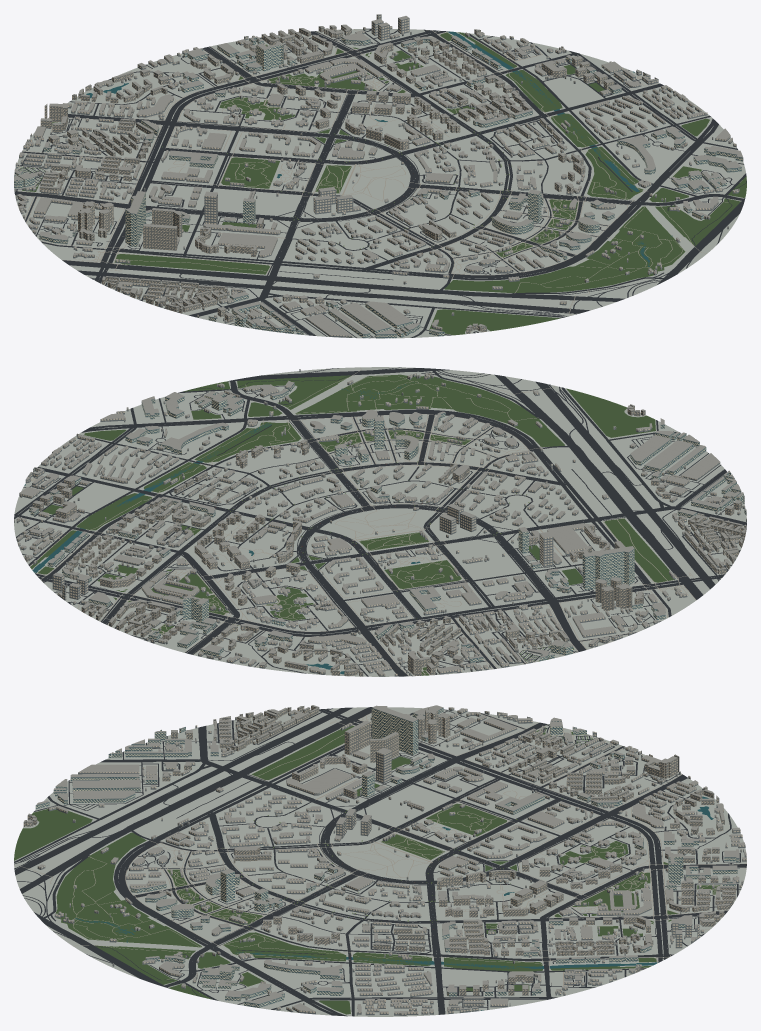
Rendered from district.glb.
3 views of the same model, one above another, from view 1: azimuth 30°, elevation 25°; view 2: azimuth 150°, elevation 25°; view 3: azimuth 270°, elevation 25° (orthographic).
Parts seen in each view (by area): view 1: CONTEXT_ground, CONTEXT_91_91, CONTEXT_90_90, CONTEXT_-2_1, CONTEXT_1_1, CONTEXT_-3_0, CONTEXT_0_2, CONTEXT_-1_2, CONTEXT_0_1, CONTEXT_0_-2, CONTEXT_2_0, CONTEXT_-3_-2 (+20 smaller); view 2: CONTEXT_ground, CONTEXT_91_91, CONTEXT_90_90, CONTEXT_-3_0, CONTEXT_-2_1, CONTEXT_0_2, CONTEXT_1_1, CONTEXT_-1_2, CONTEXT_0_1, CONTEXT_1_0, CONTEXT_-3_-2, CONTEXT_2_0 (+20 smaller); view 3: CONTEXT_ground, CONTEXT_91_91, CONTEXT_90_90, CONTEXT_-2_1, CONTEXT_-3_0, CONTEXT_1_1, CONTEXT_0_2, CONTEXT_1_0, CONTEXT_0_1, CONTEXT_-2_0, CONTEXT_2_0, CONTEXT_-1_2 (+20 smaller).
Boxes of the visible parts, box(x1,y1,x2,y2) form: CONTEXT_ground: box(14, 29, 746, 338); CONTEXT_91_91: box(14, 28, 746, 338); CONTEXT_90_90: box(19, 31, 746, 335); CONTEXT_-2_1: box(53, 120, 218, 188); CONTEXT_1_1: box(365, 40, 522, 111); CONTEXT_-3_0: box(23, 186, 145, 258); CONTEXT_0_2: box(216, 28, 368, 93); CONTEXT_-1_2: box(112, 47, 251, 117); CONTEXT_0_1: box(259, 63, 421, 135); CONTEXT_0_-2: box(460, 189, 591, 272); CONTEXT_2_0: box(564, 61, 694, 128); CONTEXT_-3_-2: box(143, 285, 293, 331); CONTEXT_ground: box(14, 367, 746, 676); CONTEXT_91_91: box(14, 367, 746, 676); CONTEXT_90_90: box(24, 374, 674, 675); CONTEXT_-3_0: box(529, 546, 687, 637); CONTEXT_-2_1: box(374, 586, 528, 660); CONTEXT_0_2: box(109, 581, 258, 648); CONTEXT_1_1: box(54, 514, 211, 583); CONTEXT_-1_2: box(198, 611, 366, 670); CONTEXT_0_1: box(153, 535, 305, 608); CONTEXT_1_0: box(126, 471, 270, 536); CONTEXT_-3_-2: box(672, 477, 746, 547); CONTEXT_2_0: box(19, 442, 162, 504); CONTEXT_ground: box(14, 707, 746, 1016); CONTEXT_91_91: box(14, 707, 746, 1016); CONTEXT_90_90: box(14, 725, 720, 1014); CONTEXT_-2_1: box(495, 755, 628, 814); CONTEXT_-3_0: box(371, 705, 517, 758); CONTEXT_1_1: box(494, 907, 628, 963); CONTEXT_0_2: box(623, 854, 743, 915); CONTEXT_1_0: box(372, 906, 500, 959); CONTEXT_0_1: box(489, 857, 635, 914); CONTEXT_-2_0: box(370, 732, 507, 811); CONTEXT_2_0: box(375, 964, 508, 1015); CONTEXT_-1_2: box(625, 803, 746, 862).
Bounding box in the file's own units: 3000 × 150 × 3000.
Materials: 18 (8 with a texture image).
